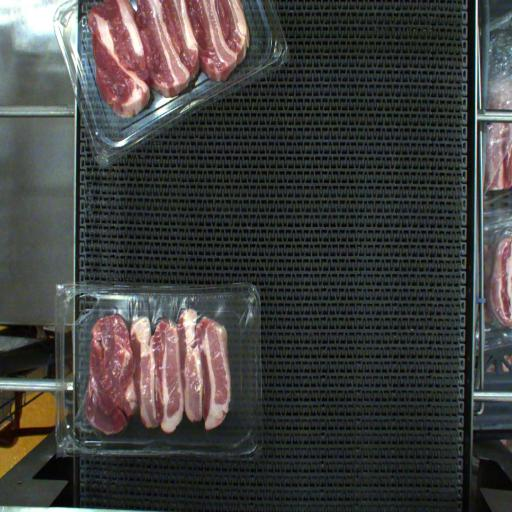unsealed: (68, 301, 245, 443)
